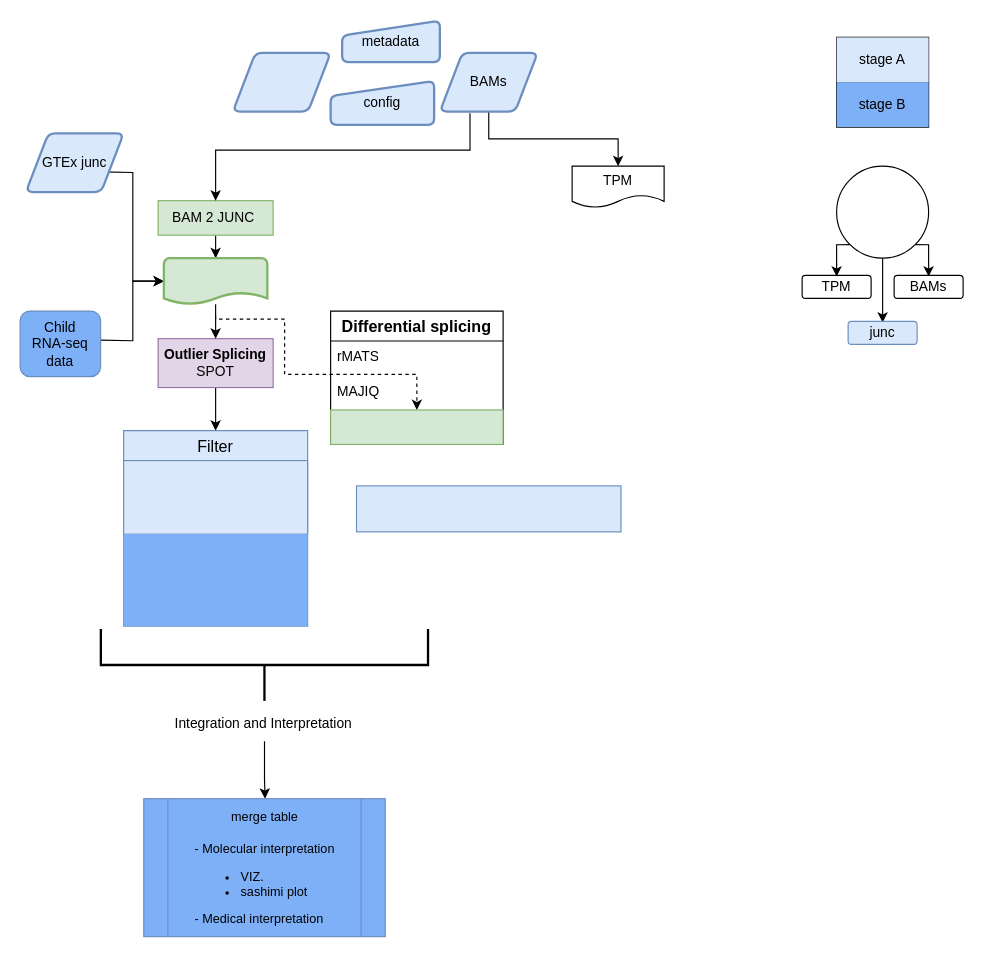
Image size: 983x957. Some labels were removed from this diagram. Each missing label, with the box of its shape:
by ontology by results from the other analysis young vs. old: (123, 534, 307, 626)
clustering: (162, 256, 268, 305)
FDR, malahanobis distance S vs. N vs. GTEx: (122, 459, 308, 534)
GTEx: (835, 165, 929, 258)
leafcutter: (329, 409, 503, 444)
Maybe separate?? Integration and filtering module for DS: (355, 485, 621, 532)
VCF: (231, 51, 331, 112)
